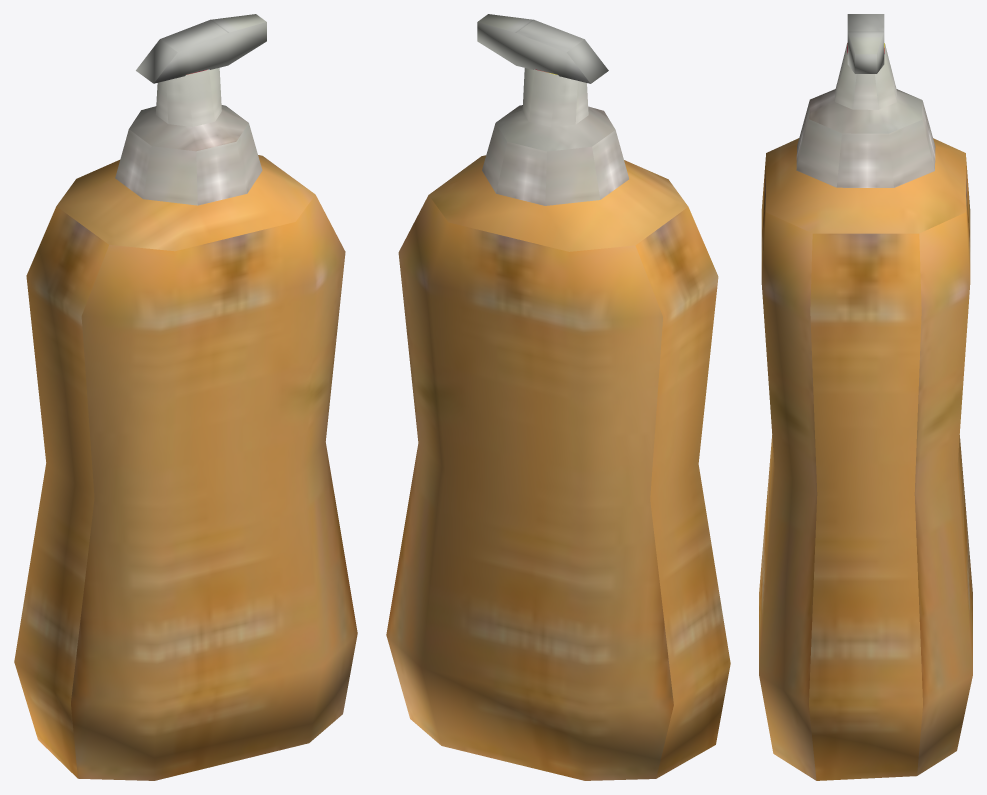
The model's file is Hand_soap_05.glb.
The picture shows the model from 3 angles, left to right: view 1: azimuth 30°, elevation 25°; view 2: azimuth 150°, elevation 25°; view 3: azimuth 270°, elevation 25°; orthographic projection.
Visible parts, largest first — view 1: Hand_soap_05; view 2: Hand_soap_05; view 3: Hand_soap_05.
Part boxes in pixels (left/top/right/bottom): Hand_soap_05: left=14, top=14, right=357, bottom=780; Hand_soap_05: left=386, top=14, right=730, bottom=780; Hand_soap_05: left=759, top=14, right=972, bottom=780.
Bounding box in the file's own units: 0.0766 × 0.1771 × 0.049.
1 material, 1 textured.
